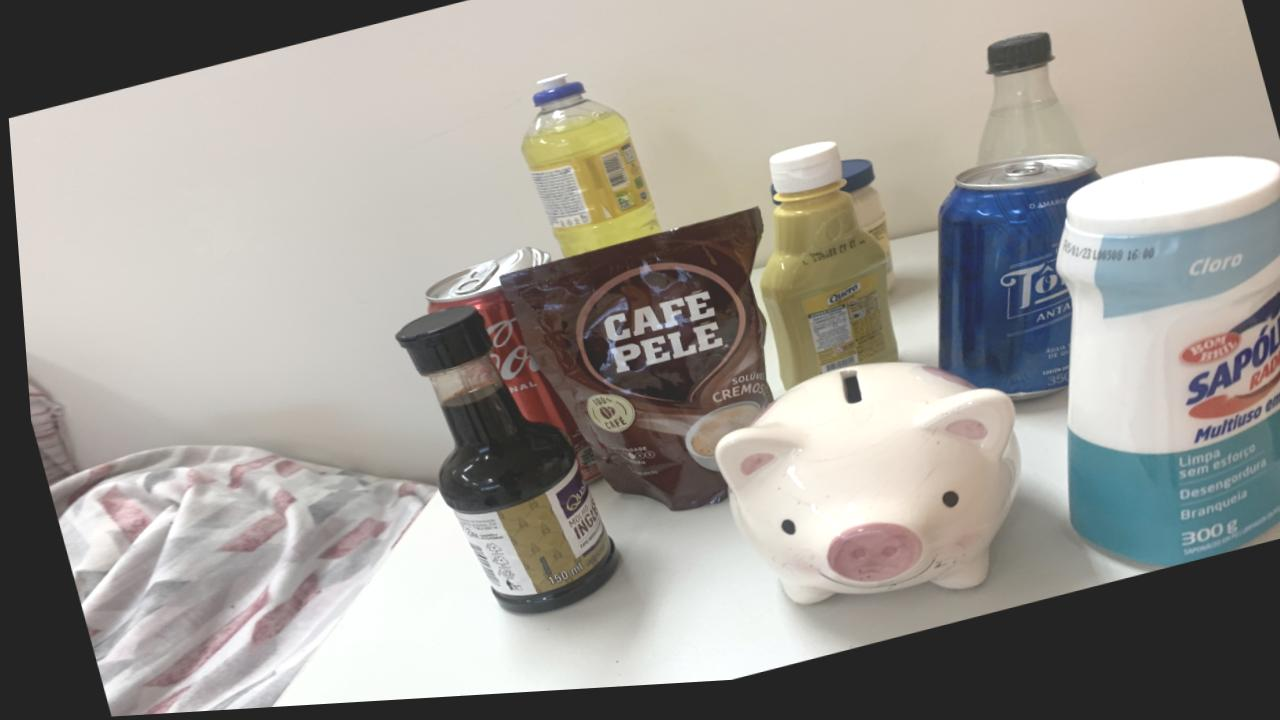Cleaner-Cleanup_Items: (1050, 170, 1280, 579)
Coffee-Pantry_Items: (495, 217, 763, 518)
Coke-Drinks: (421, 253, 591, 488)
Detergent-Cleanup_Items: (518, 82, 655, 263)
English_Sauce-Pantry_Items: (390, 312, 609, 619)
Mayonnaise-Pantry_Items: (836, 169, 891, 301)
Mustard-Pantry_Items: (755, 152, 892, 398)
Pig_Safe-Miscellaneous: (707, 372, 1013, 614)
Soda-Drinks: (973, 45, 1081, 177)
Tonic-Drinks: (931, 166, 1094, 412)
